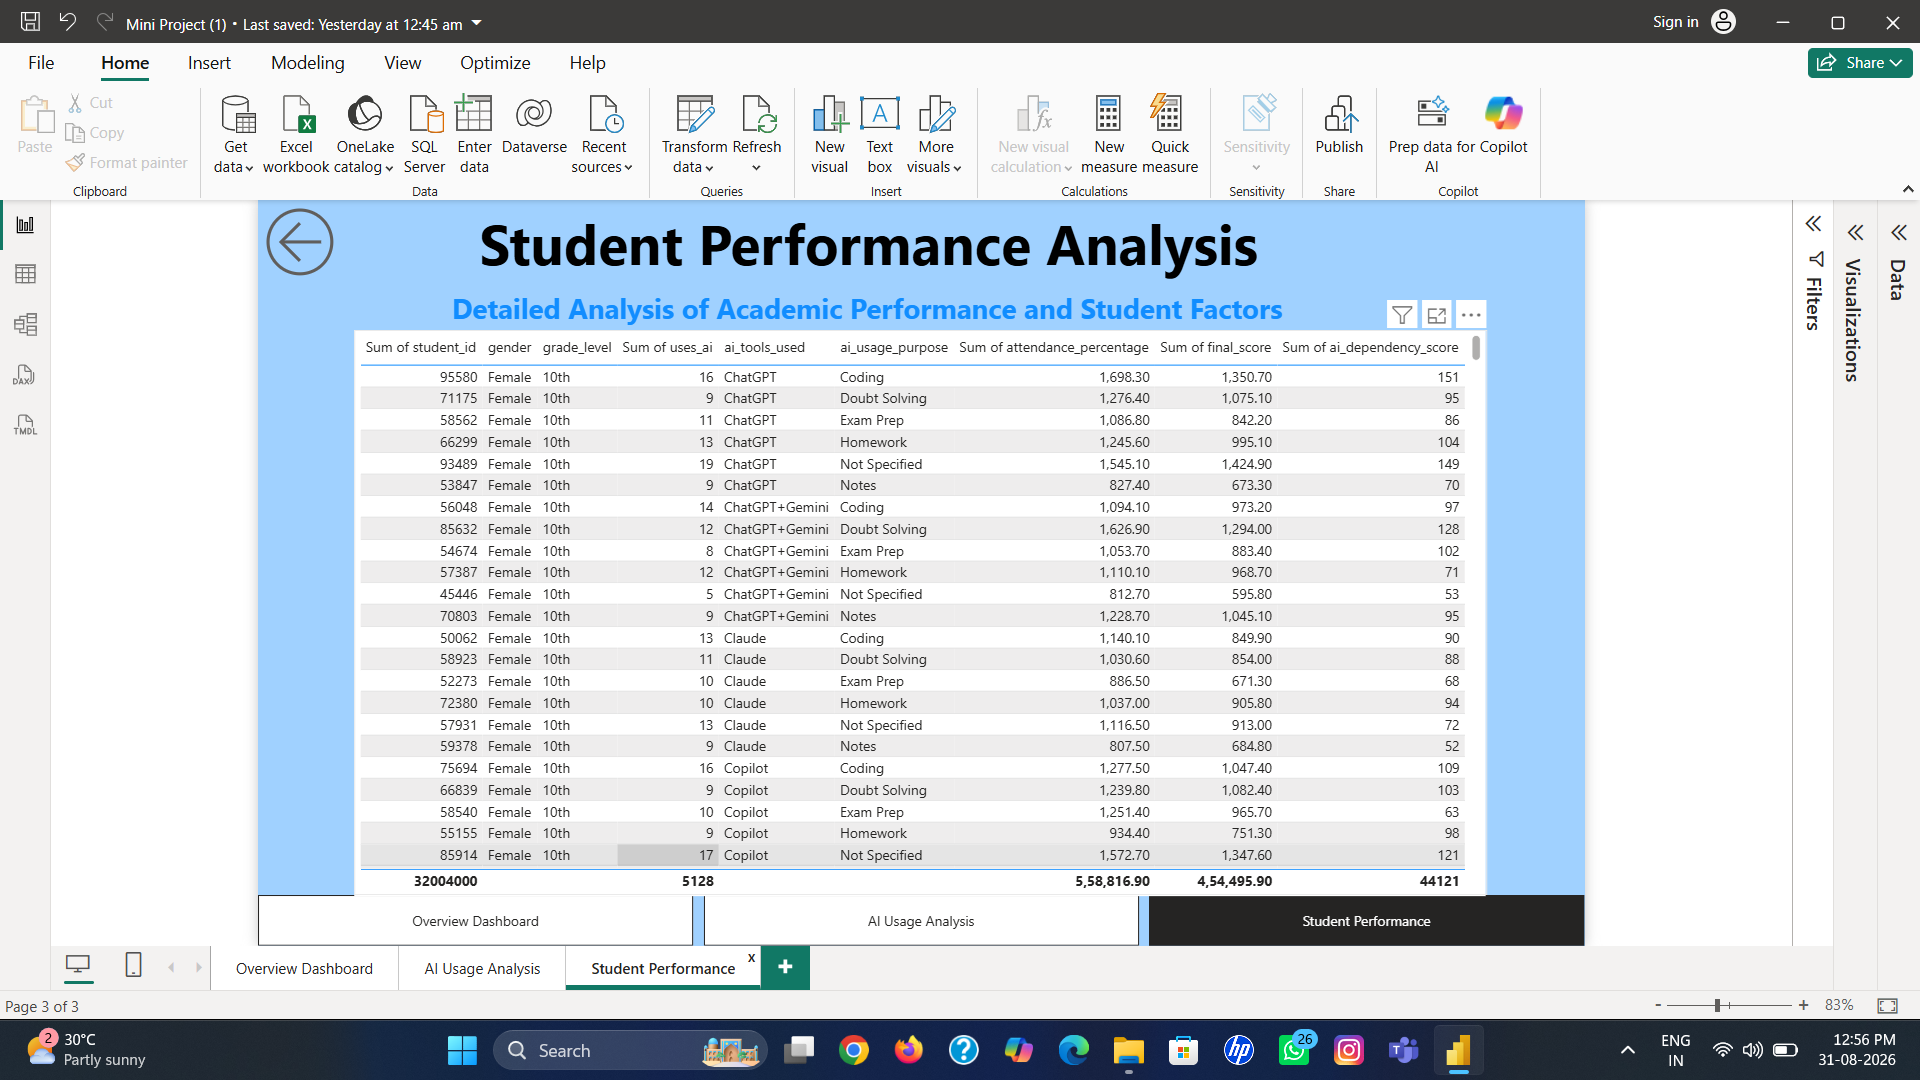

What the dashboard file says about the page in this screenshot:
{"tool":"powerbi","page":{"name":"Student Performance","canvas":[1280,720],"ordinal":2},"visuals":[{"type":"textbox","box":[208.6,0,993.5,81],"z":0},{"type":"textbox","box":[182.5,81,1097.8,59],"z":1000},{"type":"pageNavigator","box":[0,671,1280.3,49.4],"z":2000},{"type":"tableEx","fields":{"Values":["Sum(Cleaned Data.student_id)","Cleaned Data.gender","Cleaned Data.grade_level","Sum(Cleaned Data.uses_ai)","Cleaned Data.ai_tools_used","Cleaned Data.ai_usage_purpose","Sum(Cleaned Data.attendance_percentage)","Sum(Cleaned Data.final_score)","Sum(Cleaned Data.ai_dependency_score)"]},"box":[93.3,124.9,1092.3,546.1],"z":4000},{"type":"actionButton","box":[0,0,100.2,81],"z":5000}]}

Visuals, with their boxes on the page's 1280x720 design canvas (x1, y1, x2, y2). These are canvas units, not pixel positions in the 1920x1080 screenshot, which may show the page scaled, cropped or inside an application window:
textbox: 209:0:1202:81
textbox: 182:81:1280:140
pageNavigator: 0:671:1280:720
tableEx - Sum(Cleaned Data.student_id) x Cleaned Data.gender: 93:125:1186:671
actionButton: 0:0:100:81
